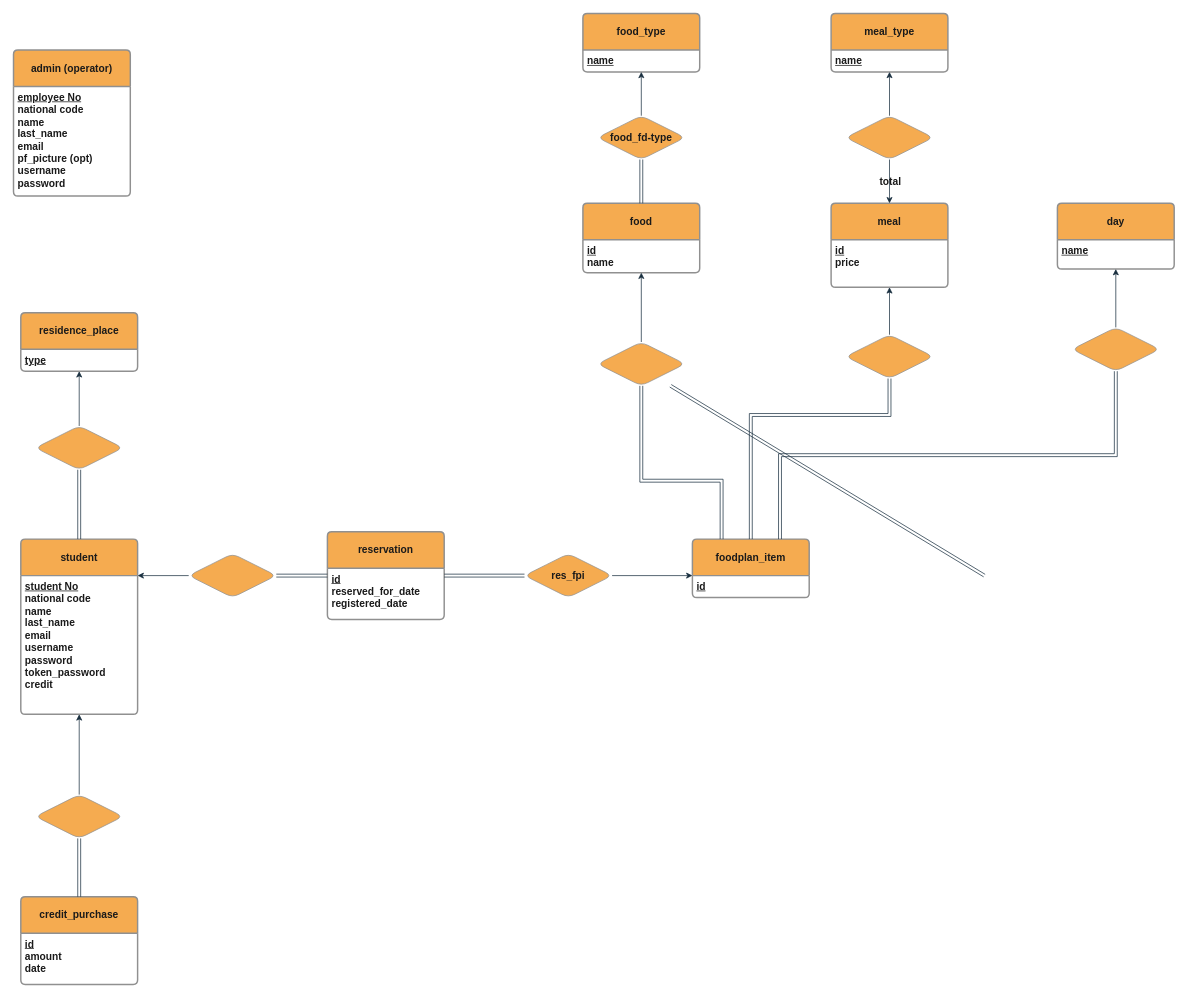
Image size: 1187x997. Some labels were removed from this diagram. Here are the shapes that lost their labels. From the top down, the centre of each, then its label:
the point at 889,137: meal_ml-type
the point at 641,363: food_fpi
the point at 889,356: meal_fpi
the point at 1115,349: day_fpi
the point at 79,447: stu_residence
the point at 232,575: register
the point at 79,816: does
